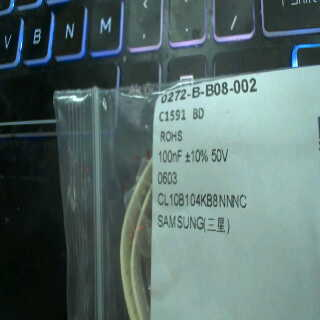100nF: (153, 148, 185, 169)
